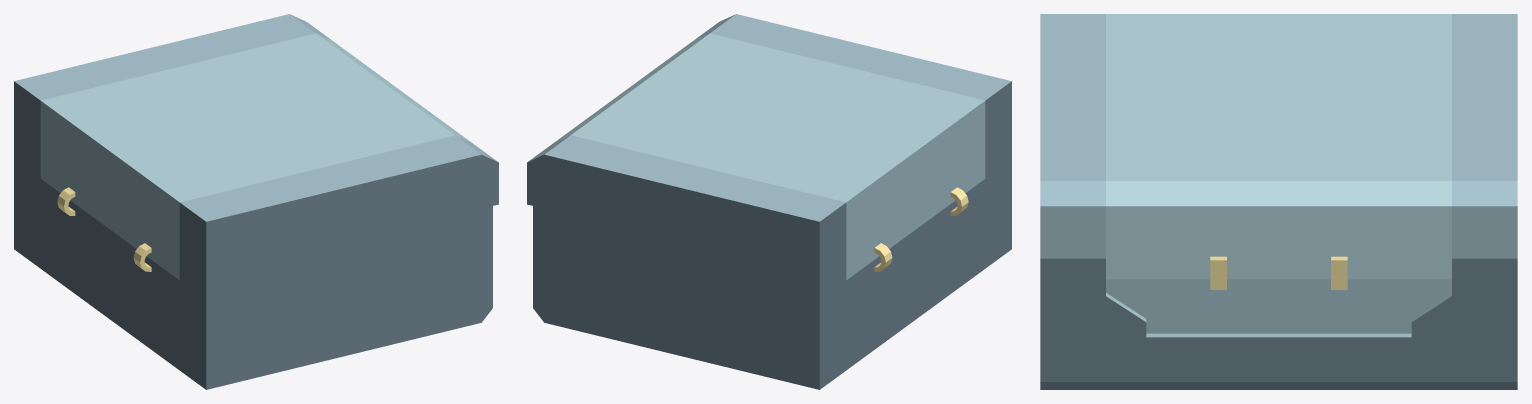
File: treasure box-01.fbx
The picture shows the model from 3 angles, left to right: view 1: azimuth 30°, elevation 25°; view 2: azimuth 150°, elevation 25°; view 3: azimuth 270°, elevation 25°; orthographic projection. The views are drawn at different scales.
Visible parts, largest first — view 1: treasure box-01; view 2: treasure box-01; view 3: treasure box-01.
Boxes of the visible parts, left/top/right/bottom form: treasure box-01: left=14, top=14, right=498, bottom=389; treasure box-01: left=527, top=14, right=1011, bottom=389; treasure box-01: left=1040, top=14, right=1517, bottom=389.
Bounding box in the file's own units: 27 × 14 × 29.
